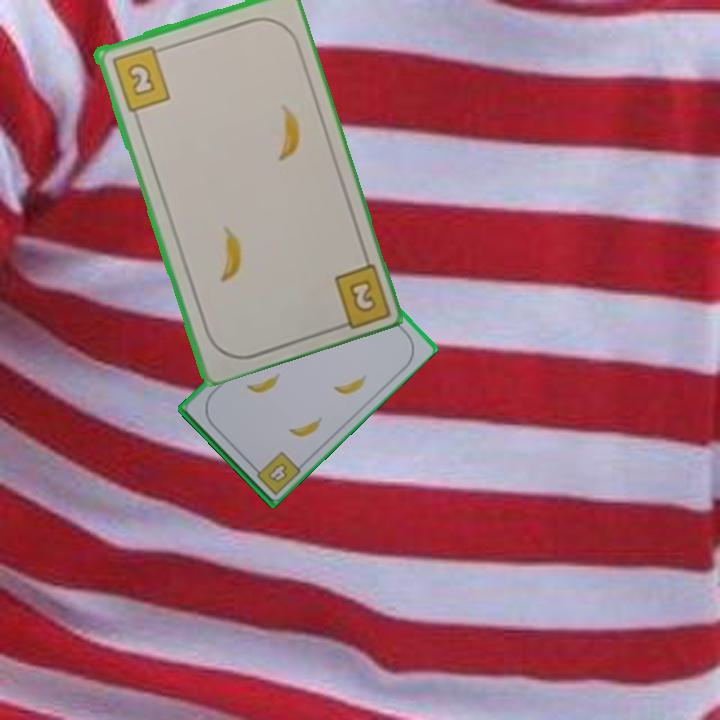2b: (328, 257, 390, 333), (108, 42, 173, 114)
4b: (264, 459, 290, 485)
